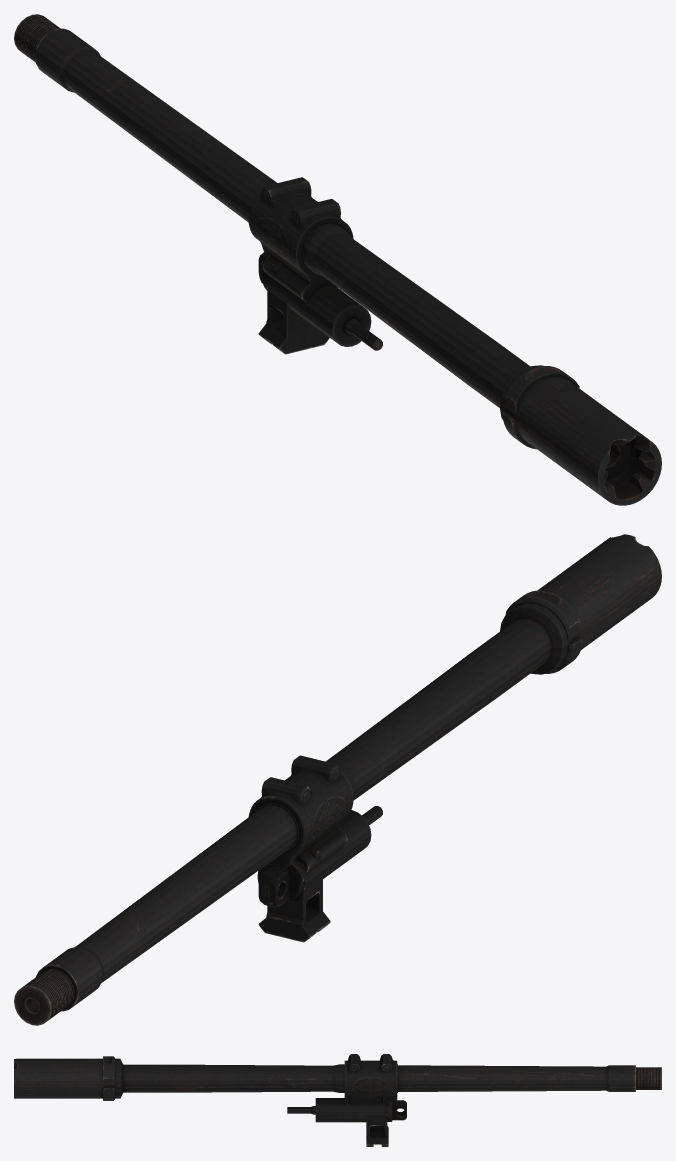
3 views of the same model, one above another, from view 1: azimuth 30°, elevation 25°; view 2: azimuth 150°, elevation 25°; view 3: azimuth 270°, elevation 25° (orthographic). The views are drawn at different scales.
Visible parts, largest first — view 1: TW_5c48a2852e221602b21d5923_PZ_Import; view 2: TW_5c48a2852e221602b21d5923_PZ_Import; view 3: TW_5c48a2852e221602b21d5923_PZ_Import.
Part boxes in pixels (<box>): TW_5c48a2852e221602b21d5923_PZ_Import: <box>14,14,661,505</box>; TW_5c48a2852e221602b21d5923_PZ_Import: <box>14,534,661,1025</box>; TW_5c48a2852e221602b21d5923_PZ_Import: <box>14,1054,661,1146</box>.
Bounding box in the file's own units: 0.017 × 0.2465 × 0.035.
Materials: 1 (1 with a texture image).
